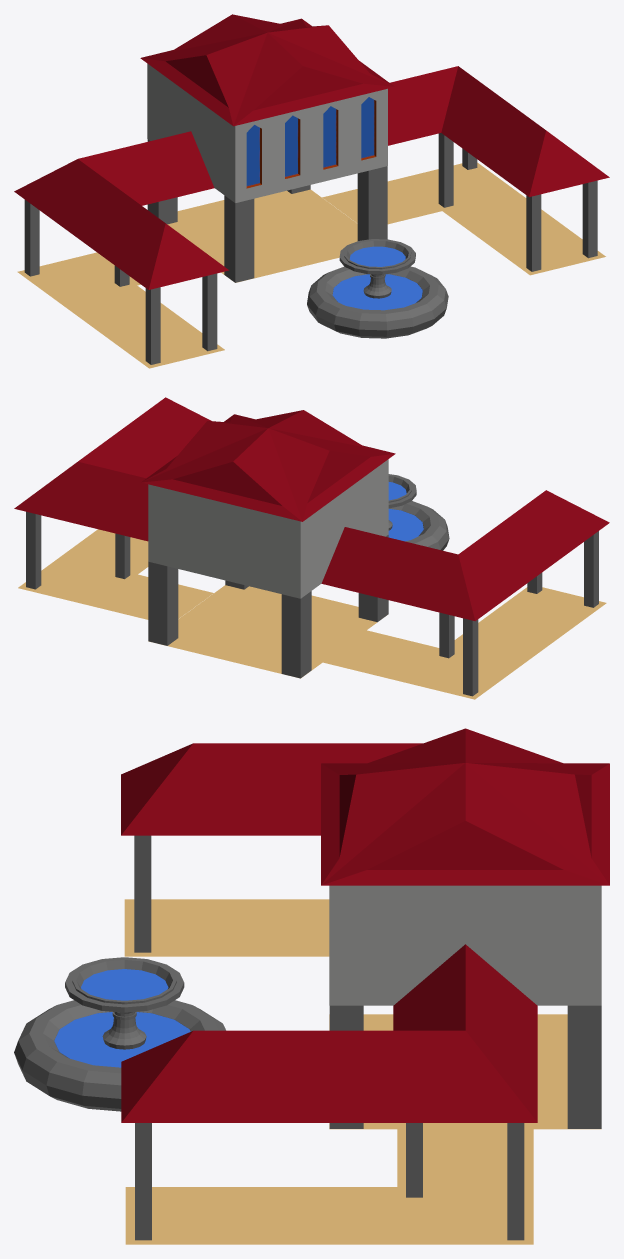
File: TownCenter.fbx
3 views of the same model, one above another, from view 1: azimuth 30°, elevation 25°; view 2: azimuth 150°, elevation 25°; view 3: azimuth 270°, elevation 25° (orthographic). The views are drawn at different scales.
Parts seen in each view (by area): view 1: Roofs, Floor, BuildingPrefab, Pillars, FoundationPrefab, Windows, WaterBelow, Fountain, Water; view 2: Roofs, Floor, BuildingPrefab, Pillars, FoundationPrefab, WaterBelow, Fountain; view 3: Roofs, Floor, BuildingPrefab, Pillars, FoundationPrefab, Fountain, WaterBelow, Water.
Boxes of the visible parts, bbox=[...] form: Roofs: bbox=[14, 14, 609, 289]; Floor: bbox=[17, 162, 605, 368]; BuildingPrefab: bbox=[147, 63, 387, 202]; Pillars: bbox=[24, 133, 597, 364]; FoundationPrefab: bbox=[307, 266, 448, 338]; Windows: bbox=[246, 97, 376, 188]; WaterBelow: bbox=[332, 274, 422, 310]; Fountain: bbox=[339, 239, 415, 298]; Water: bbox=[350, 246, 405, 266]; Roofs: bbox=[14, 397, 609, 621]; Floor: bbox=[18, 529, 606, 699]; BuildingPrefab: bbox=[148, 459, 388, 598]; Pillars: bbox=[26, 511, 598, 696]; FoundationPrefab: bbox=[389, 501, 449, 550]; WaterBelow: bbox=[388, 508, 423, 541]; Fountain: bbox=[388, 474, 416, 530]; Roofs: bbox=[121, 728, 609, 1122]; Floor: bbox=[124, 899, 601, 1244]; BuildingPrefab: bbox=[329, 885, 601, 1005]; Pillars: bbox=[134, 835, 601, 1240]; FoundationPrefab: bbox=[14, 1000, 225, 1111]; Fountain: bbox=[65, 957, 184, 1049]; WaterBelow: bbox=[54, 1012, 190, 1067]; Water: bbox=[81, 969, 168, 1000].
Size of the model in its own units: 1210 by 500 by 875.
